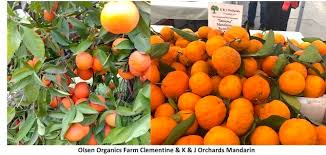orange: (191, 96, 226, 127), (278, 118, 314, 145), (240, 74, 271, 105), (256, 98, 291, 125), (208, 45, 240, 74), (159, 69, 189, 97), (277, 70, 306, 97), (217, 74, 242, 99), (186, 38, 210, 64), (222, 25, 248, 48), (125, 51, 149, 75), (73, 49, 92, 72)
